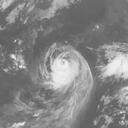cyclone: (40, 42, 93, 95)
